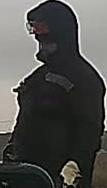gloves: (56, 157, 85, 188)
helmet: (22, 15, 54, 36)
vest: (5, 57, 105, 167)
